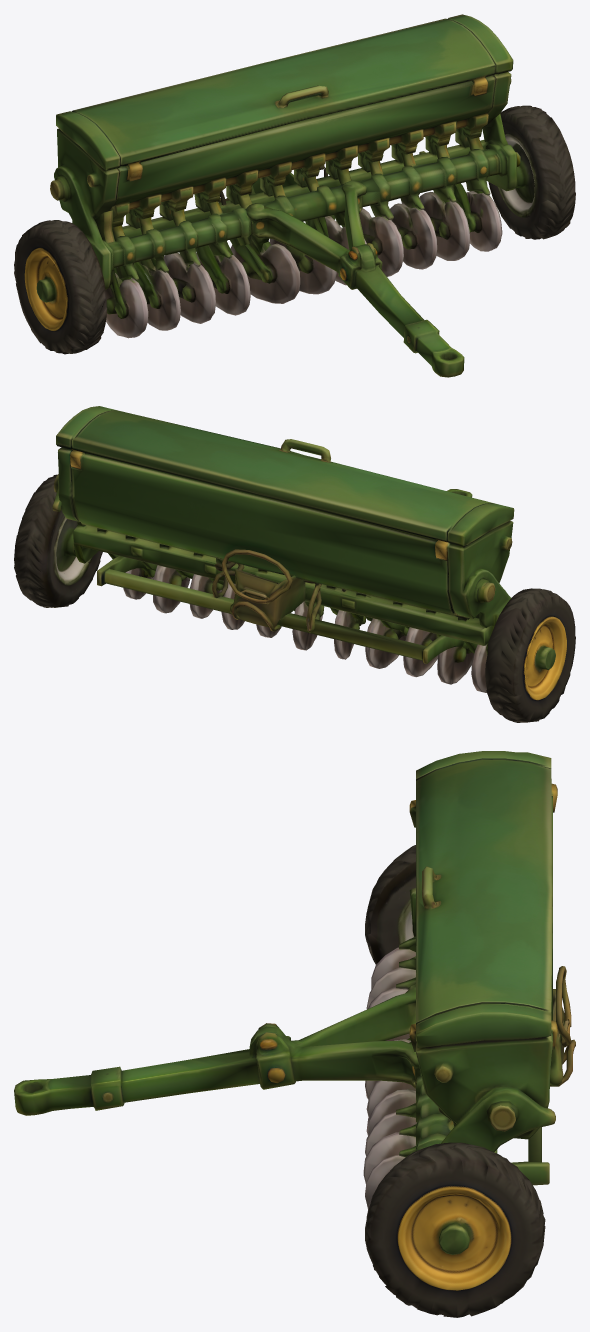
The model's file is seed_drill.glb.
3 renders of one model, top to bottom at view 1: azimuth 30°, elevation 25°; view 2: azimuth 150°, elevation 25°; view 3: azimuth 270°, elevation 25°, orthographic. The views are drawn at different scales.
Parts seen in each view (by area): view 1: tripo_node_08cde0e3-7e43-4b39-81a6-475817da27ec; view 2: tripo_node_08cde0e3-7e43-4b39-81a6-475817da27ec; view 3: tripo_node_08cde0e3-7e43-4b39-81a6-475817da27ec.
Boxes of the visible parts, x1,y1,x2,y2 form: tripo_node_08cde0e3-7e43-4b39-81a6-475817da27ec: (14,14,575,377); tripo_node_08cde0e3-7e43-4b39-81a6-475817da27ec: (14,406,575,722); tripo_node_08cde0e3-7e43-4b39-81a6-475817da27ec: (14,751,575,1317).
Size of the model in its own units: 0.9741 by 0.3831 by 0.6957.
1 material, 1 textured.
